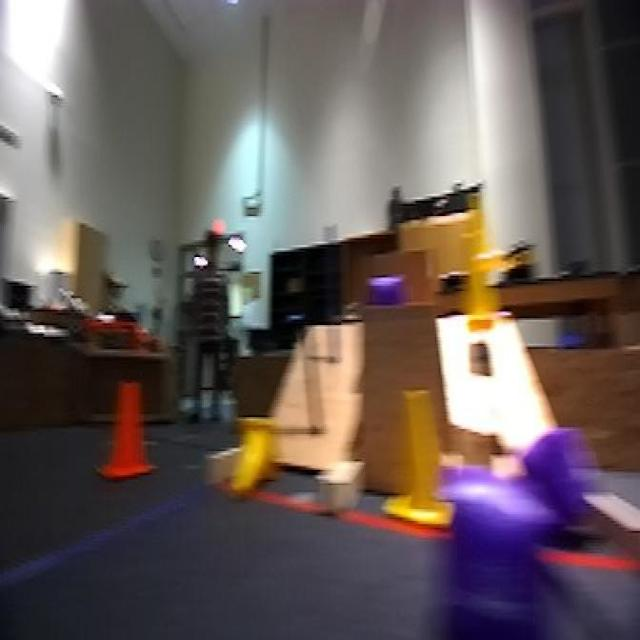frc_cone: (383, 385, 453, 524), (443, 216, 489, 339), (217, 420, 279, 496), (472, 188, 502, 278)
frc_cube: (459, 483, 560, 635), (524, 414, 606, 540), (358, 269, 412, 310)
